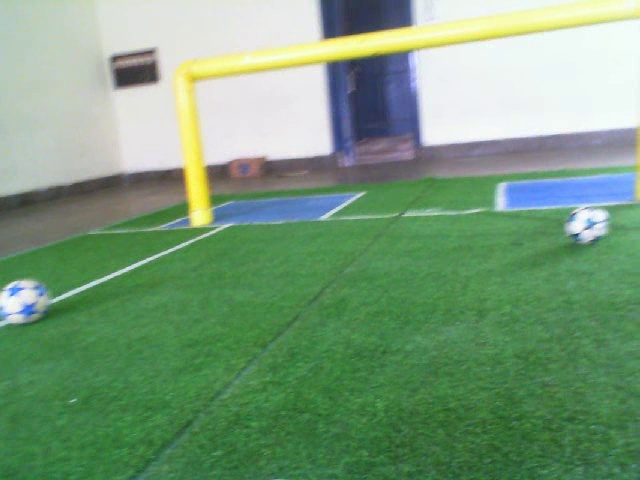ball: (560, 202, 614, 250), (1, 277, 52, 326)
